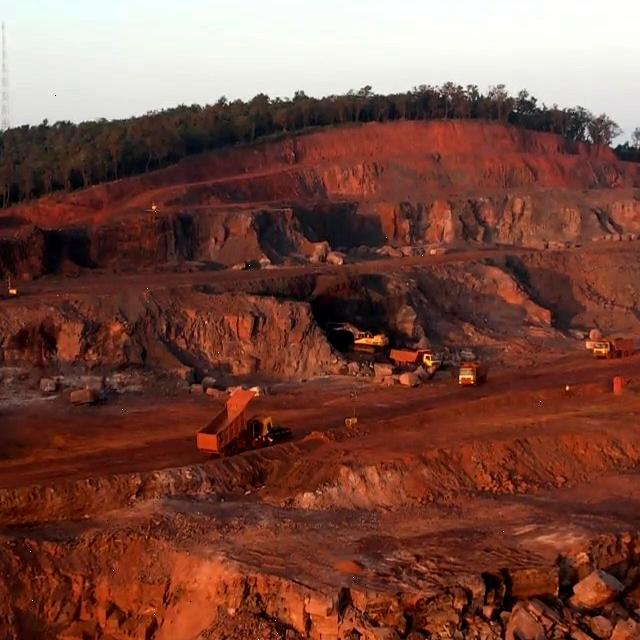Dumper truck: (201, 406, 275, 451)
Excavator: (351, 325, 388, 355)
